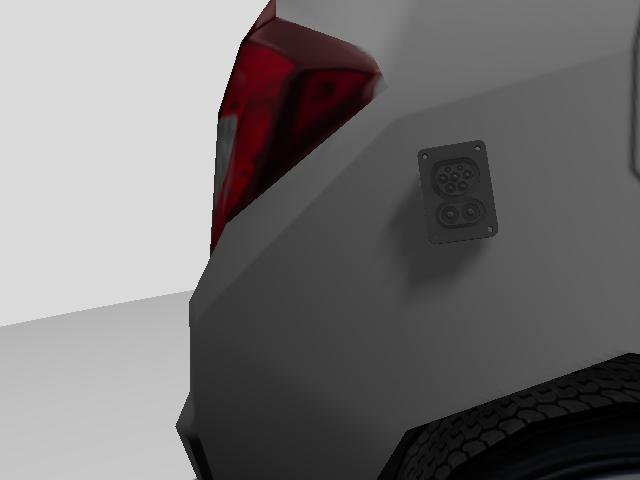EV-socket: (419, 135, 504, 248)
